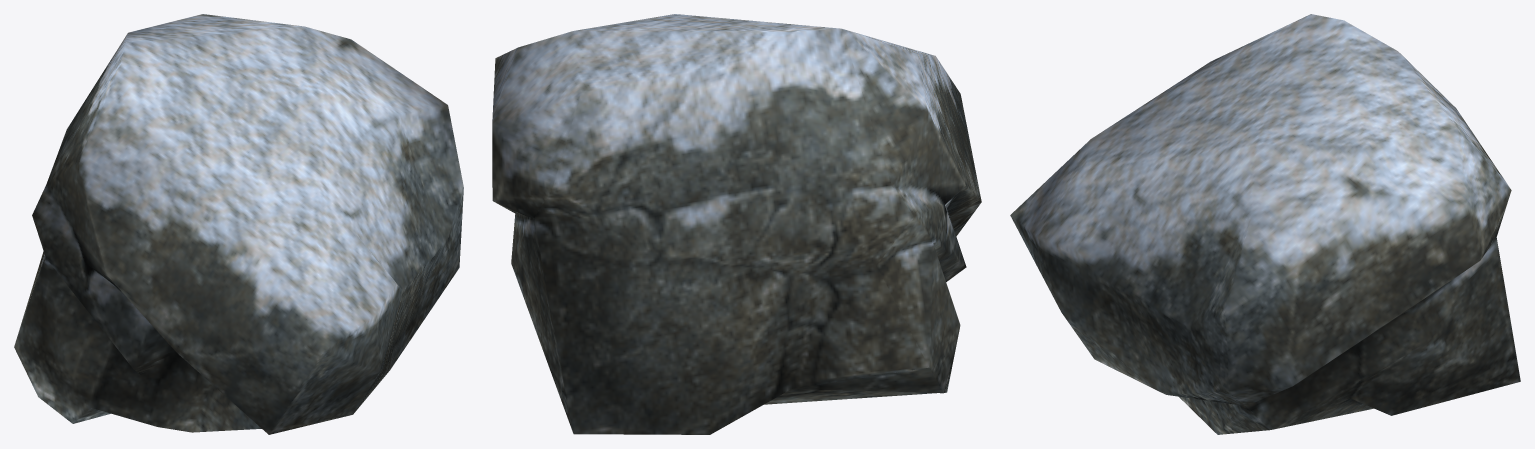
File: SC_bingfengyiji_shitou04.FBX
3 views of the same model, side by side, from view 1: azimuth 30°, elevation 25°; view 2: azimuth 150°, elevation 25°; view 3: azimuth 270°, elevation 25° (orthographic). The views are drawn at different scales.
Parts seen in each view (by area): view 1: SC_bingfengyiji_shitou04; view 2: SC_bingfengyiji_shitou04; view 3: SC_bingfengyiji_shitou04.
Part boxes in pixels (left/top/right/bottom): SC_bingfengyiji_shitou04: left=14, top=14, right=463, bottom=434; SC_bingfengyiji_shitou04: left=492, top=14, right=981, bottom=434; SC_bingfengyiji_shitou04: left=1010, top=14, right=1520, bottom=434.
Bounding box in the file's own units: 356 × 293 × 395.
